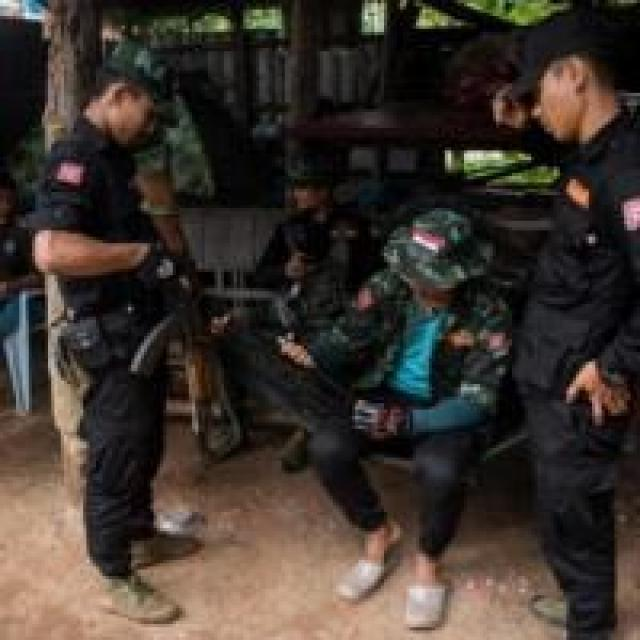gun: (108, 173, 228, 473)
